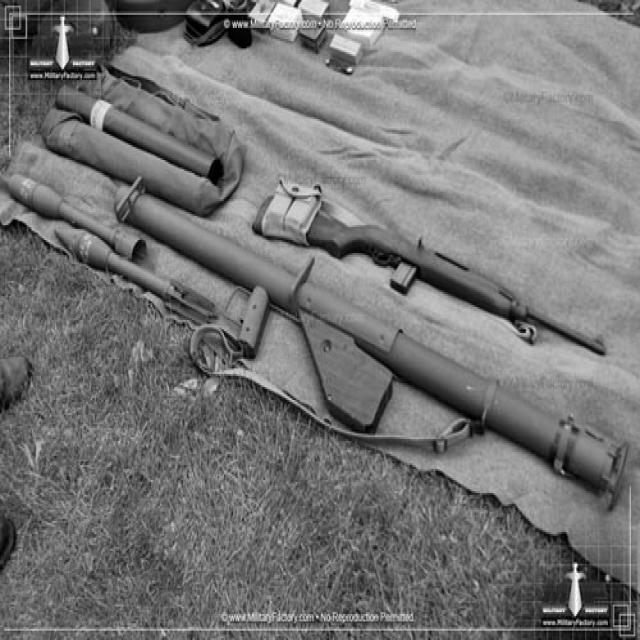Lancher: (99, 165, 629, 527), (15, 164, 207, 333), (56, 75, 226, 184)
Sniper: (251, 161, 610, 309)
